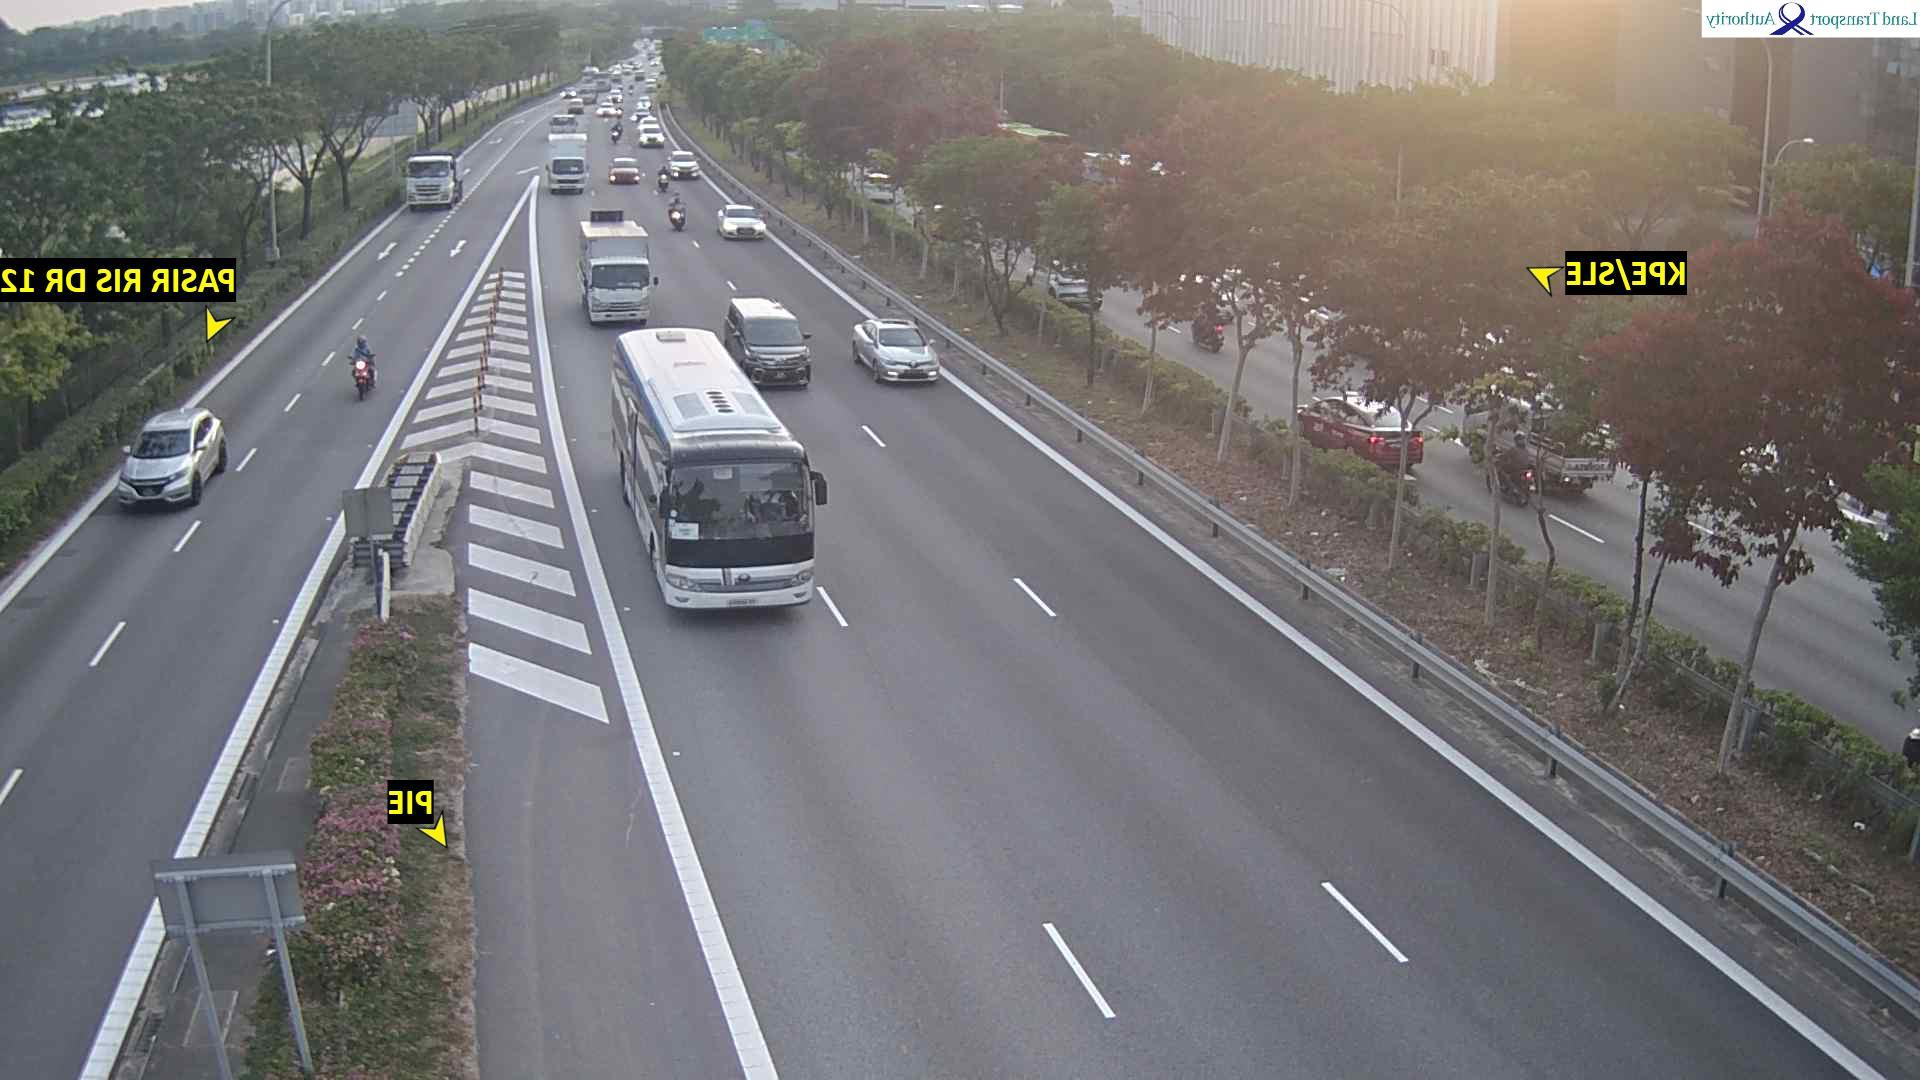bus: (609, 324, 829, 613)
cars: (117, 406, 229, 510), (1296, 392, 1425, 472), (724, 295, 814, 389), (851, 316, 942, 384), (1048, 268, 1105, 311), (717, 202, 767, 239), (546, 156, 588, 194), (549, 112, 588, 144), (860, 170, 897, 203), (667, 149, 702, 179), (608, 156, 642, 185), (640, 117, 667, 146), (596, 100, 618, 119), (555, 84, 578, 102)
motorcycle: (1486, 444, 1536, 506), (1192, 302, 1230, 352), (348, 352, 378, 401), (669, 196, 687, 229), (658, 165, 669, 196), (608, 125, 622, 144)
trucks: (578, 208, 659, 324), (406, 152, 465, 210)
